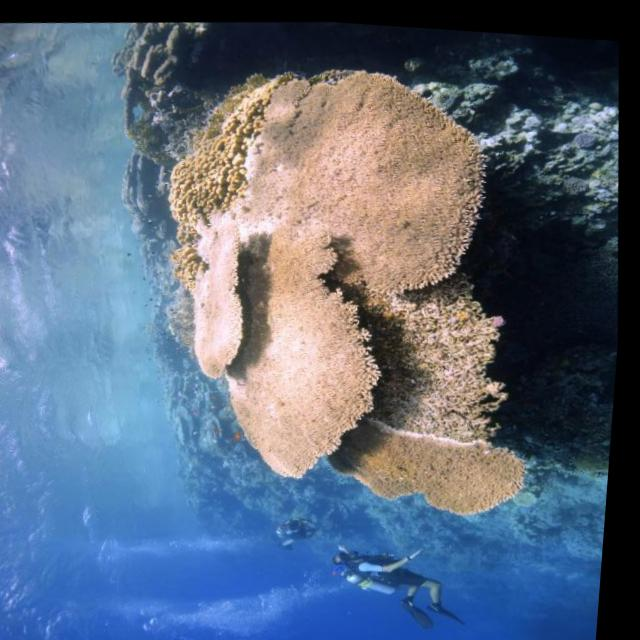Healthy Coral: (148, 36, 561, 538)
